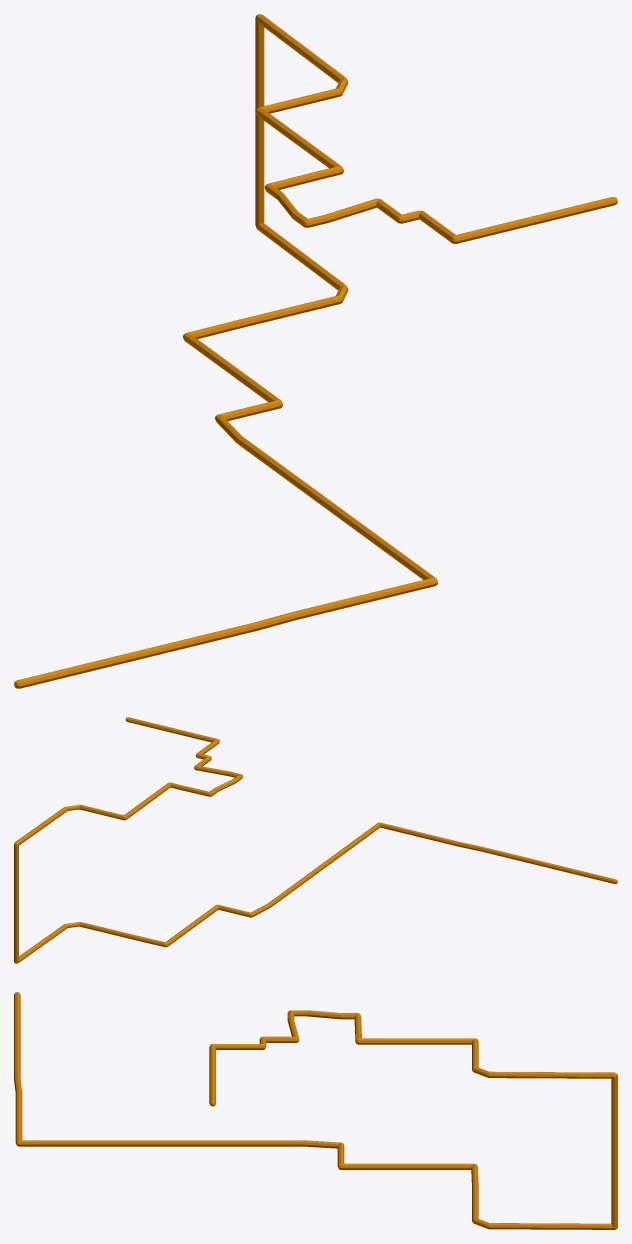
3 views of the same model, one above another, from view 1: azimuth 30°, elevation 25°; view 2: azimuth 150°, elevation 25°; view 3: azimuth 270°, elevation 25° (orthographic). The views are drawn at different scales.
Bounding box in the file's own units: 1860 × 520 × 1810.
